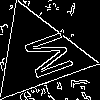M: (13, 29, 75, 85)
